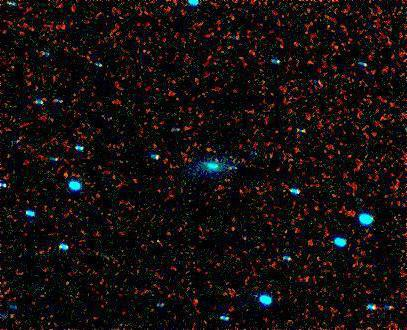star: (194, 134, 224, 164)
